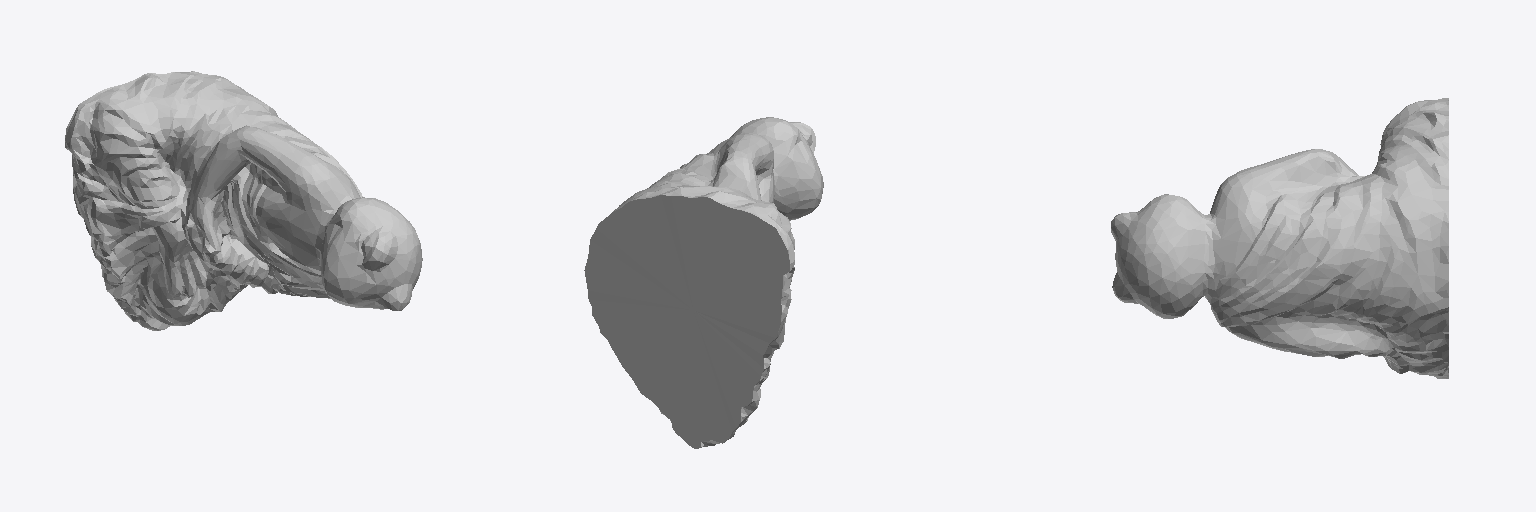
The model's file is 190698-frog_statue_QEM_90pct.obj.
3 renders of one model, left to right at view 1: azimuth 30°, elevation 25°; view 2: azimuth 150°, elevation 25°; view 3: azimuth 270°, elevation 25°, orthographic.
Size of the model in its own units: 0.7294 by 0.8383 by 0.9986.